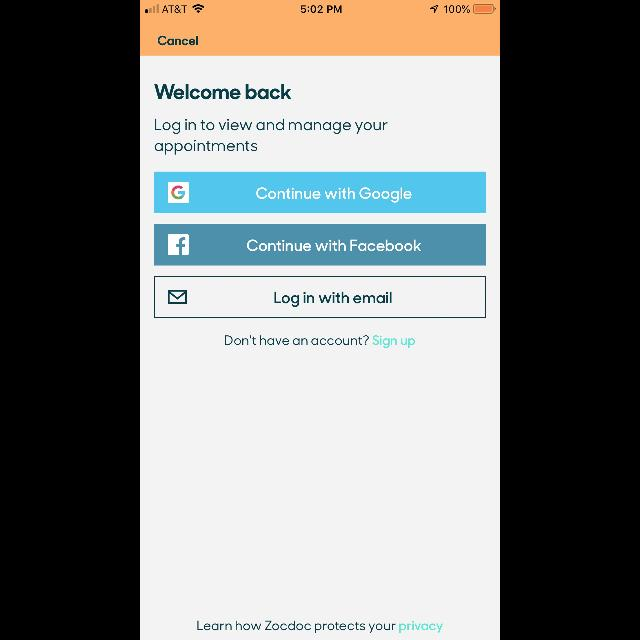text: (154, 119, 388, 155), (198, 620, 442, 634), (225, 336, 415, 348), (154, 84, 292, 100), (158, 36, 198, 46)
textbutton: (154, 172, 486, 214), (154, 224, 486, 266), (154, 276, 486, 318)
uppertaskbar: (140, 0, 500, 14)
